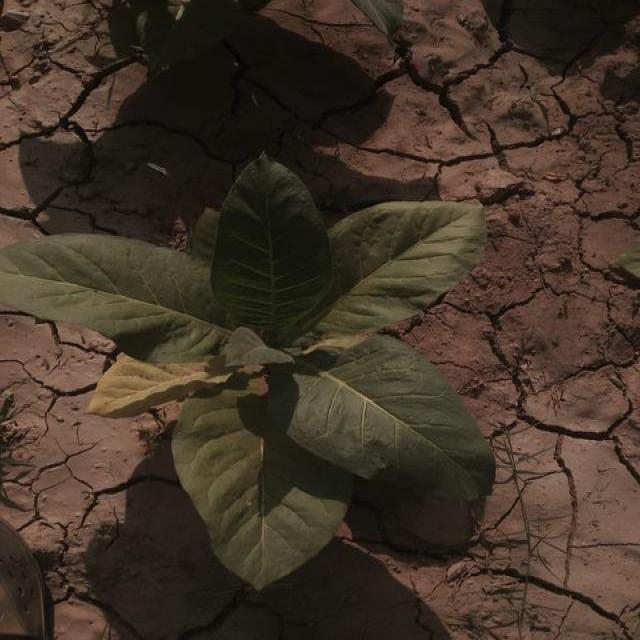crop: (2, 159, 494, 582)
